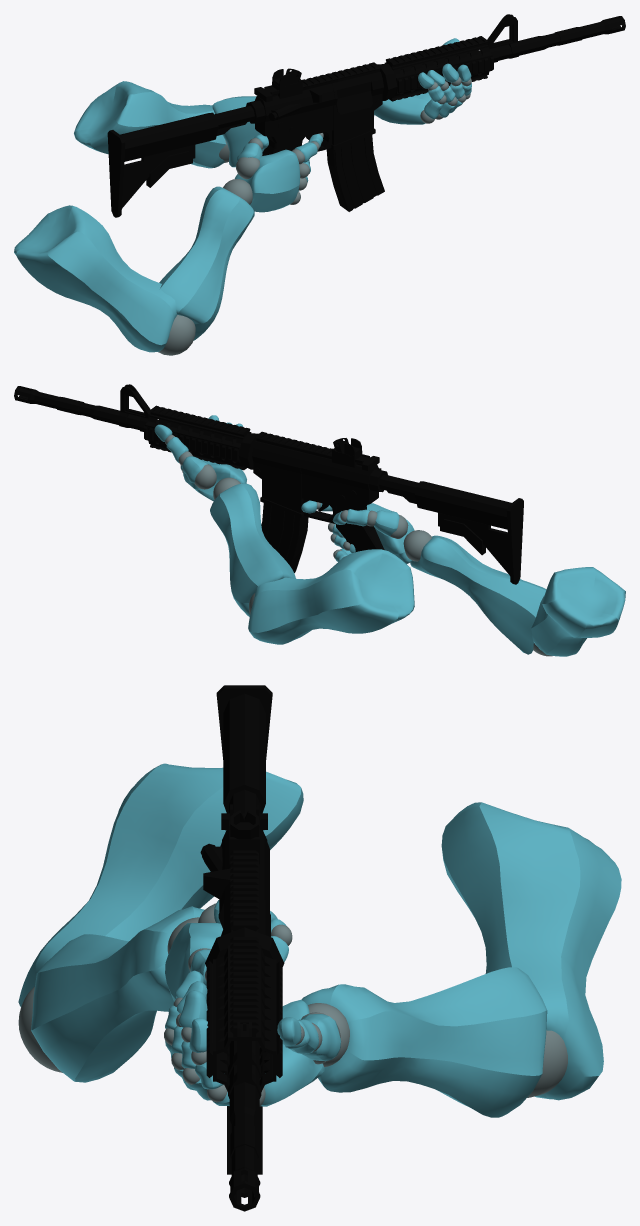
Rendered from GunWithHands.fbx.
3 views of the same model, one above another, from view 1: azimuth 30°, elevation 25°; view 2: azimuth 150°, elevation 25°; view 3: azimuth 270°, elevation 25° (orthographic). The views are drawn at different scales.
Parts seen in each view (by area): view 1: Weapon_02_7; view 2: Weapon_02_7; view 3: Weapon_02_7.
Boxes of the visible parts, <box> form: Weapon_02_7: <box>14,14,625,355</box>; Weapon_02_7: <box>14,384,625,656</box>; Weapon_02_7: <box>18,685,621,1211</box>.
Bounding box in the file's own units: 51.48 × 39.17 × 118.
